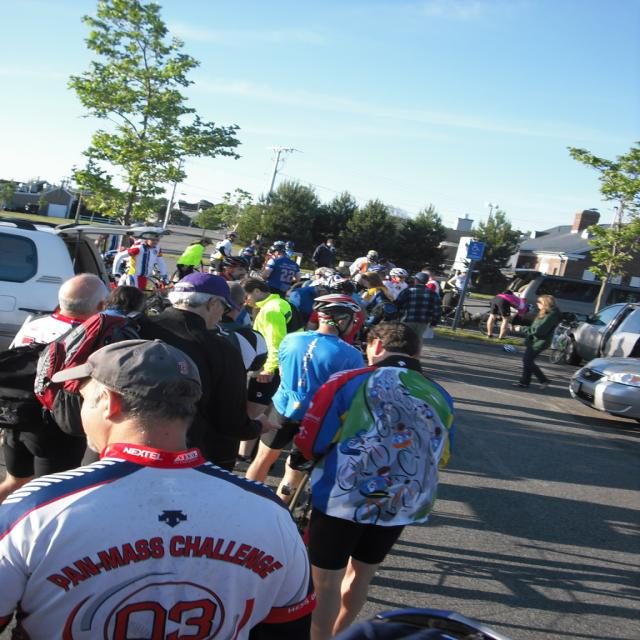car: (0, 227, 116, 342), (560, 349, 635, 406)
